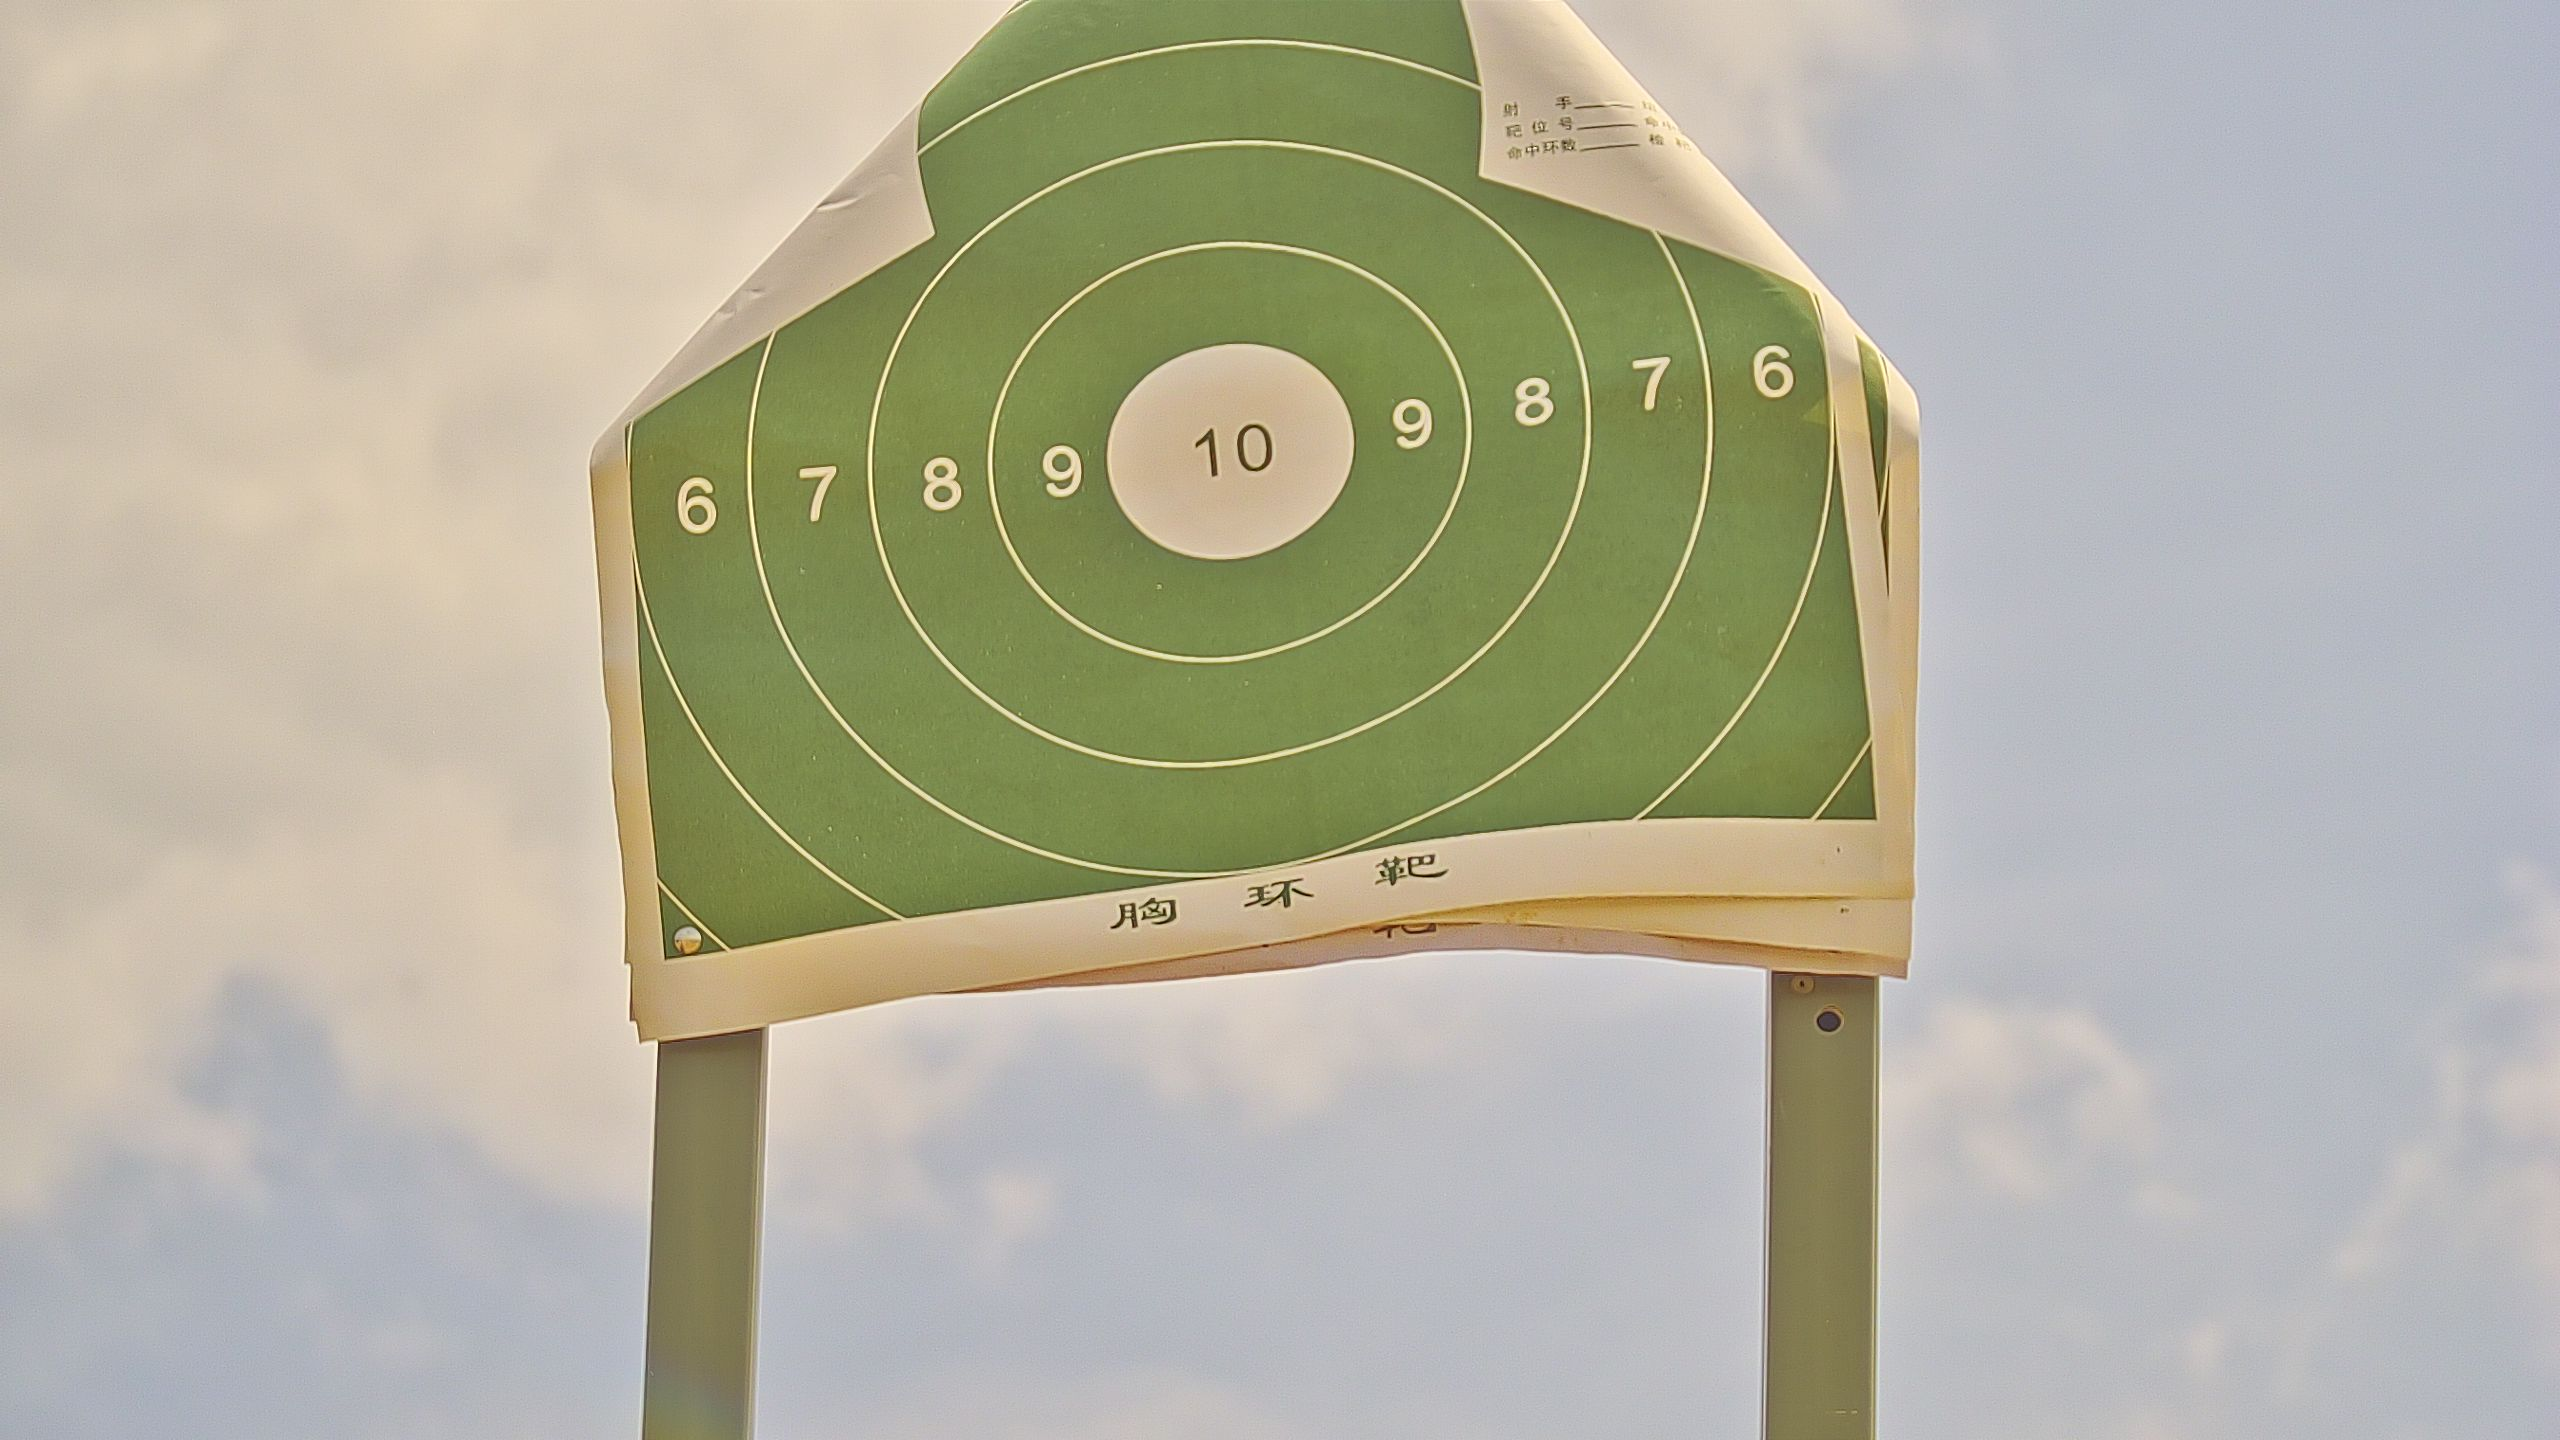kernel: (1227, 452, 1233, 454)
target: (621, 2, 1876, 955)
ten: (1104, 338, 1359, 564)
